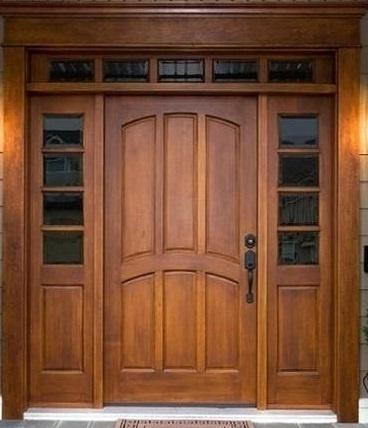door: (103, 91, 260, 400)
